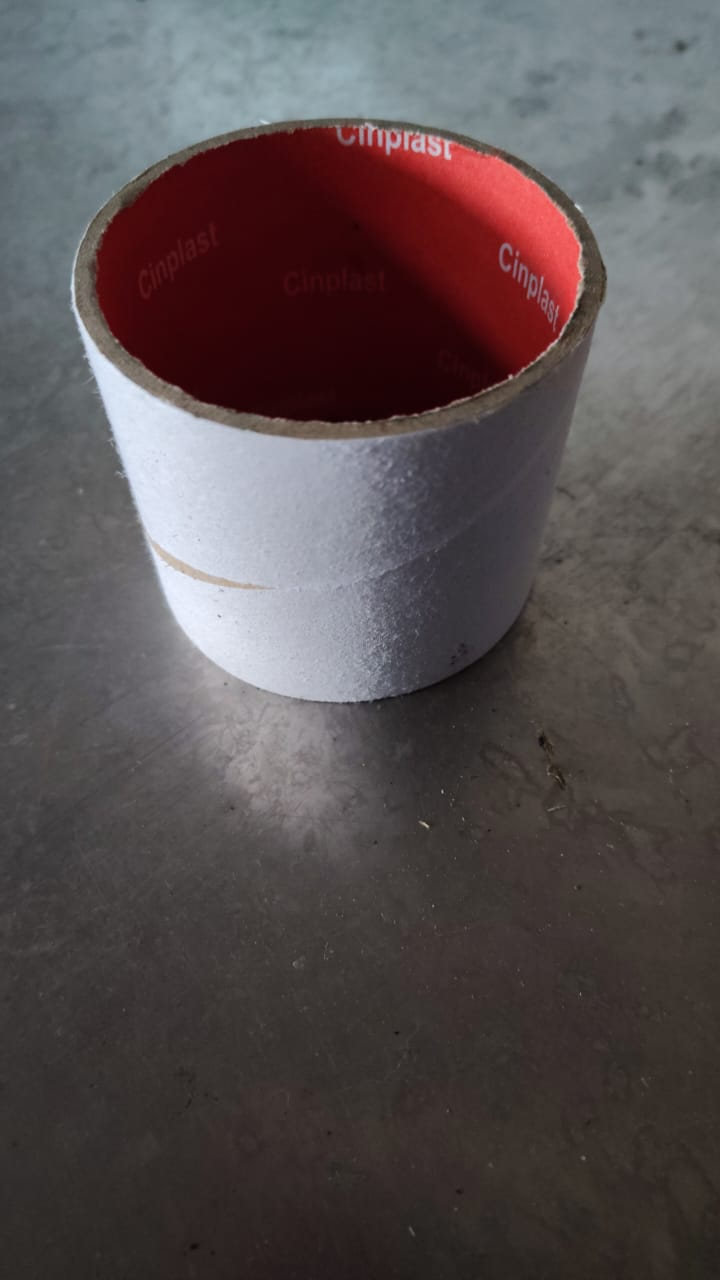Carton: (70, 118, 611, 705)
